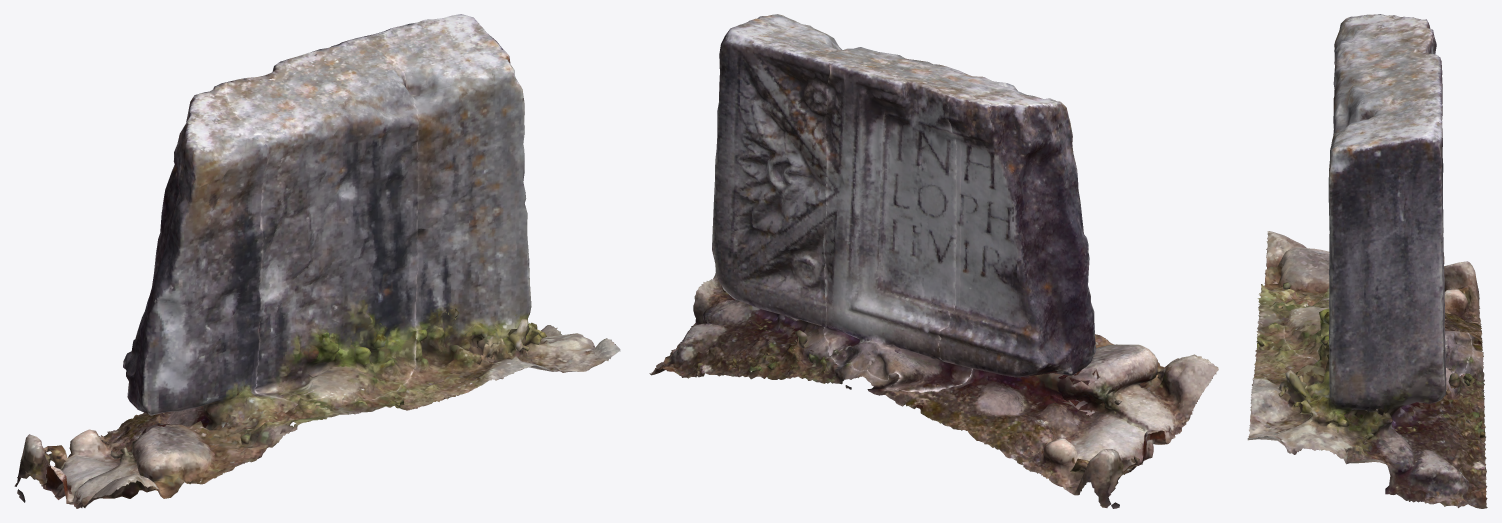
Rendered from tombstone.fbx.
The picture shows the model from 3 angles, left to right: view 1: azimuth 30°, elevation 25°; view 2: azimuth 150°, elevation 25°; view 3: azimuth 270°, elevation 25°; orthographic projection. The views are drawn at different scales.
Parts seen in each view (by area): view 1: tombstone_lowPoly; view 2: tombstone_lowPoly; view 3: tombstone_lowPoly.
Boxes of the visible parts, box(x1,y1,x2,y2) form: tombstone_lowPoly: box(14, 14, 620, 508); tombstone_lowPoly: box(649, 14, 1218, 508); tombstone_lowPoly: box(1247, 14, 1487, 508).
Bounding box in the file's own units: 142 × 107 × 61.02.
1 material, 1 textured.
